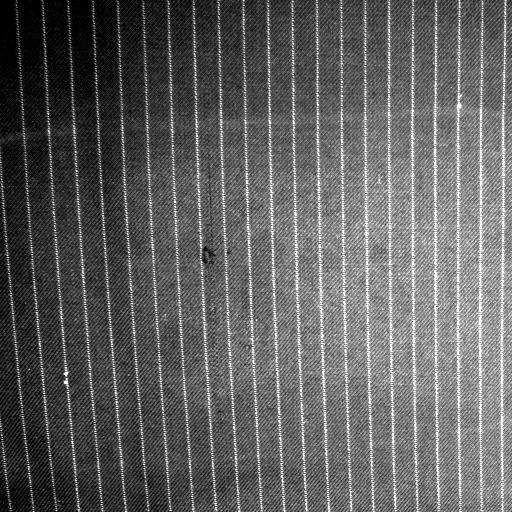fabric_hole: (193, 244, 223, 278)
